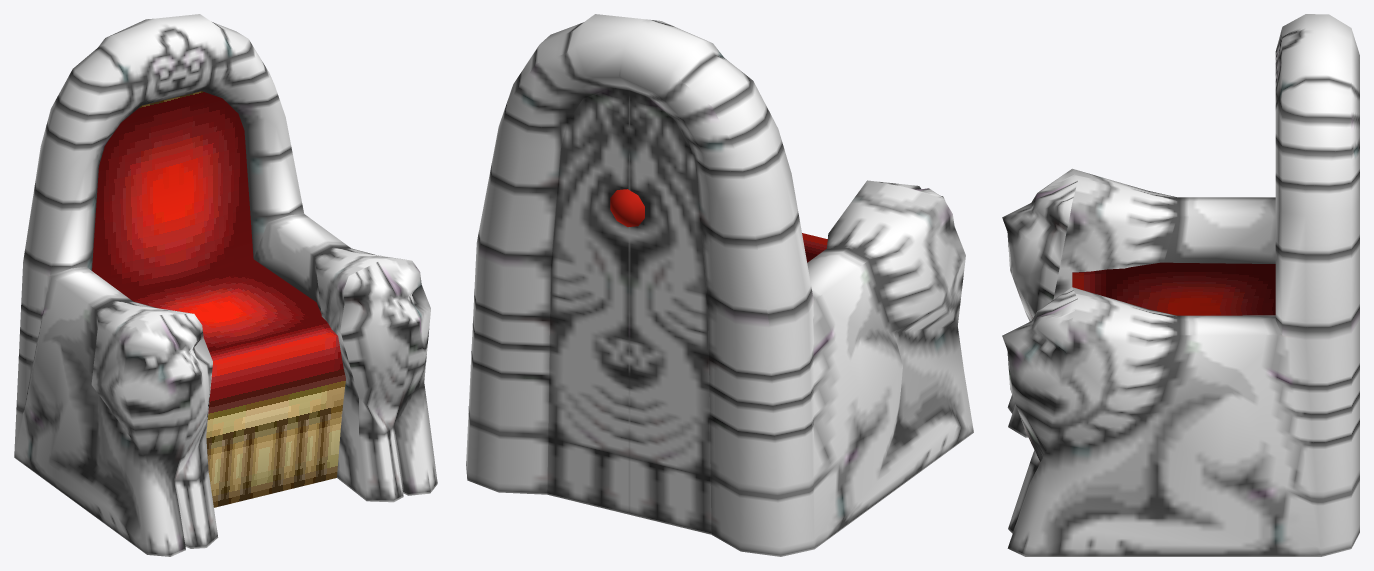
File: rmk_oth_king_chairS.dae
3 renders of one model, left to right at view 1: azimuth 30°, elevation 25°; view 2: azimuth 150°, elevation 25°; view 3: azimuth 270°, elevation 25°, orthographic. The views are drawn at different scales.
Visible parts, largest first — view 1: rmk_oth_king_chairS; view 2: rmk_oth_king_chairS; view 3: rmk_oth_king_chairS.
Part boxes in pixels (x1,y1,x2,y2): rmk_oth_king_chairS: (14,14,437,556); rmk_oth_king_chairS: (466,14,973,556); rmk_oth_king_chairS: (1002,14,1359,556).
Bounding box in the file's own units: 35 × 42.2 × 30.64.
Materials: 2 (2 with a texture image).
